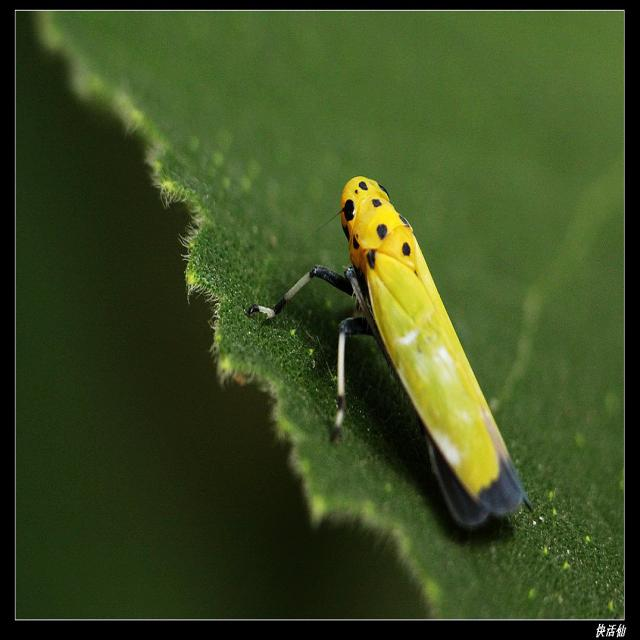Yechan: (320, 156, 522, 542)
